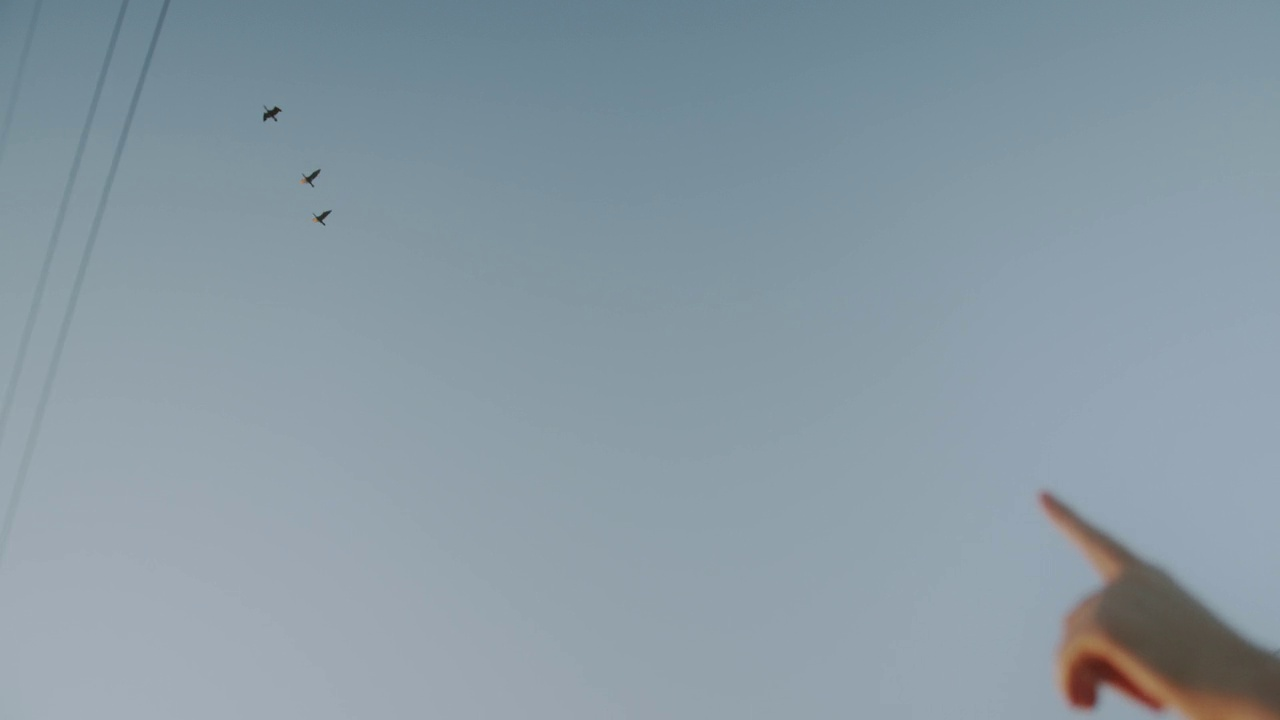bird: (307, 206, 333, 225), (300, 167, 320, 188), (262, 102, 280, 122)
